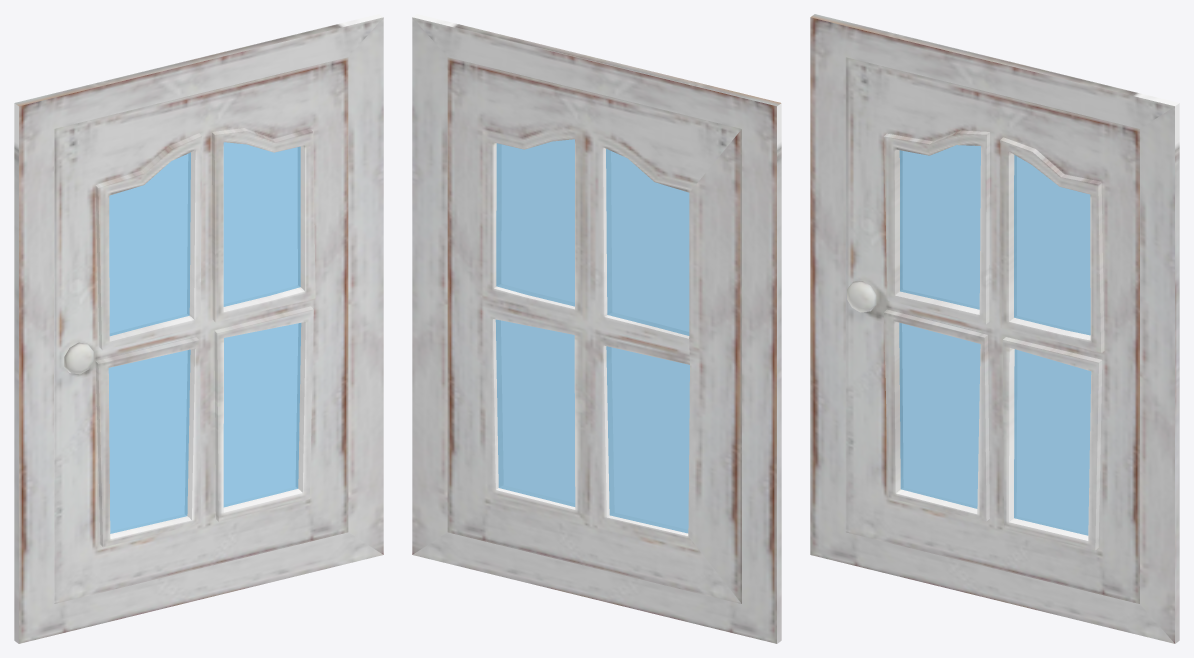
Rendered from window.glb.
3 views of the same model, side by side, from view 1: azimuth 30°, elevation 25°; view 2: azimuth 150°, elevation 25°; view 3: azimuth 330°, elevation 25° (orthographic).
Visible parts, largest first — view 1: Plane, Plane.001; view 2: Plane, Plane.001; view 3: Plane, Plane.001.
Boxes of the visible parts, <box> form: Plane: <box>54,57,348,603</box>; Plane.001: <box>14,14,383,643</box>; Plane: <box>447,57,741,603</box>; Plane.001: <box>412,14,781,643</box>; Plane: <box>845,57,1139,603</box>; Plane.001: <box>810,14,1179,643</box>.
Size of the model in its own units: 2.48 by 3.49 by 0.1434.
Materials: 2 (1 with a texture image).
